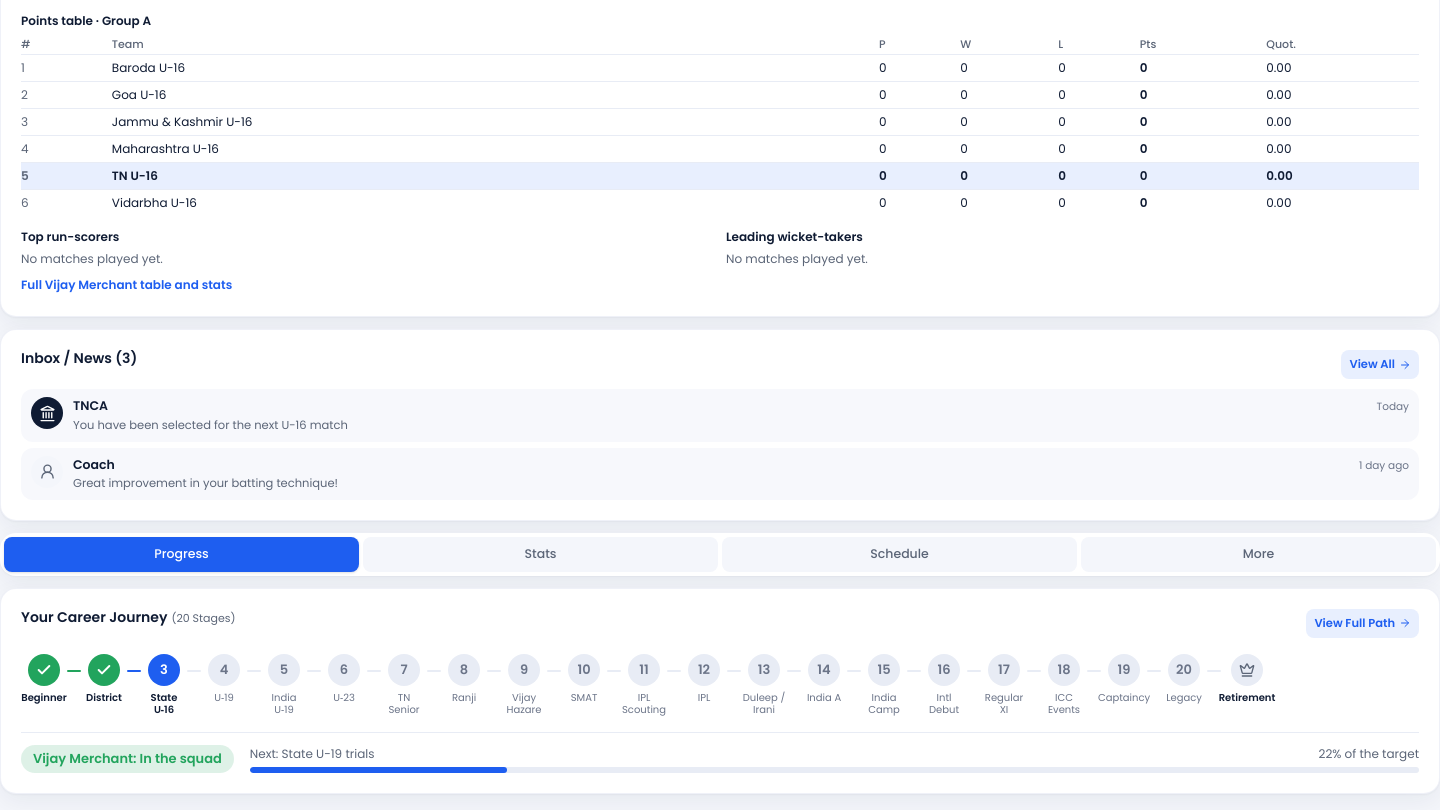
Test: Home on a phone › leads with the hero, Next action and three compact cards, the rest behind tabs
(page scrolled)
Check: the heading "Inbox / News (3)" is shown, box [21,350,137,368]
Check: the heading "Your Career Journey(20 Stages)" is shown, box [21,608,236,626]
Click the tab "Stats": (540,554) [363,537,718,572]
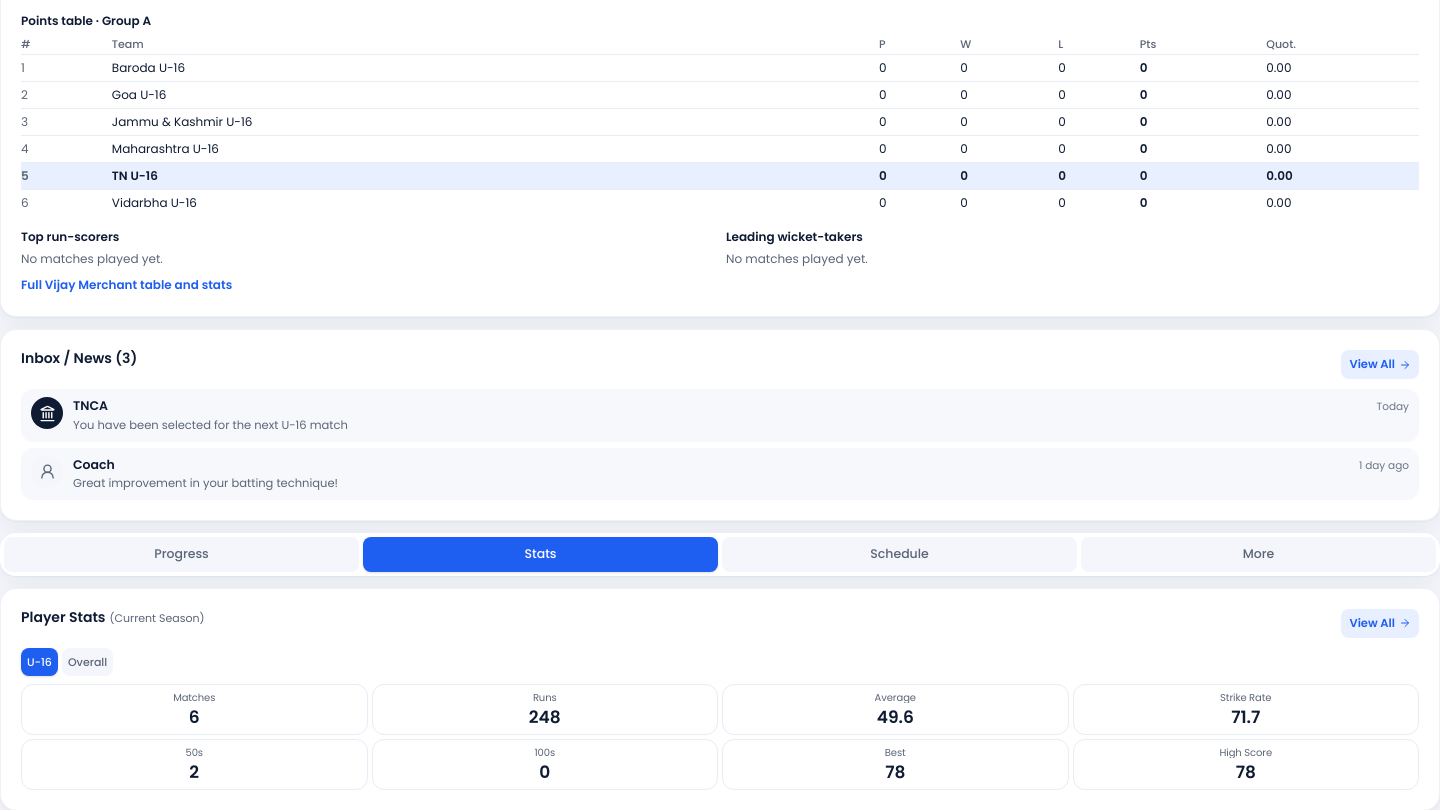
Check: the heading "Player Stats(Current Season)" is shown, box [21,608,205,626]
Click the tab "More": (1258,554) [1081,537,1436,572]
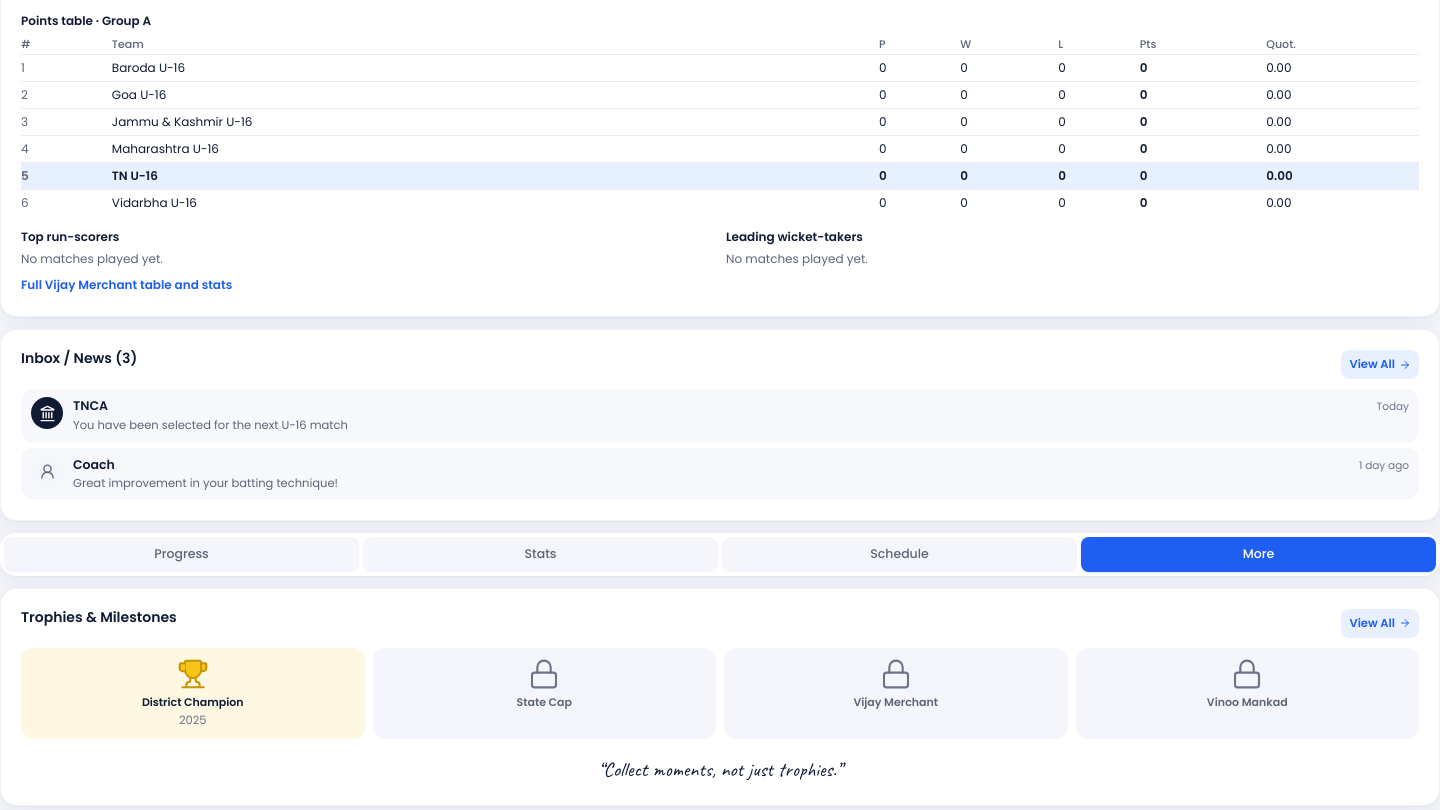
Check: the heading "Trophies & Milestones" is shown, box [21,608,177,626]
